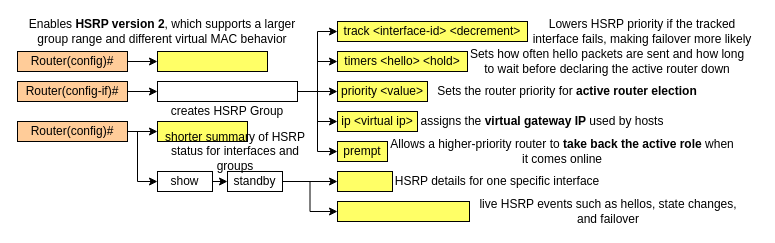
The diagram is 775 pixels wide and 243 high, and some of its shapes have lost their labels. Each missing label, with the box of its shape:
brief: (336, 170, 392, 192)
debug standby: (156, 120, 248, 142)
interface <interface-id>: (336, 200, 470, 222)
standby <group number>: (156, 80, 298, 102)
standby version 2: (156, 50, 268, 72)
